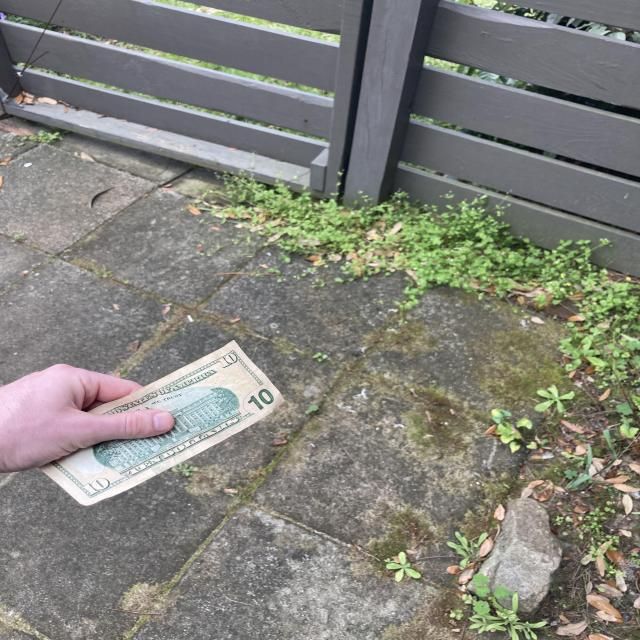ten: (18, 326, 290, 526)
